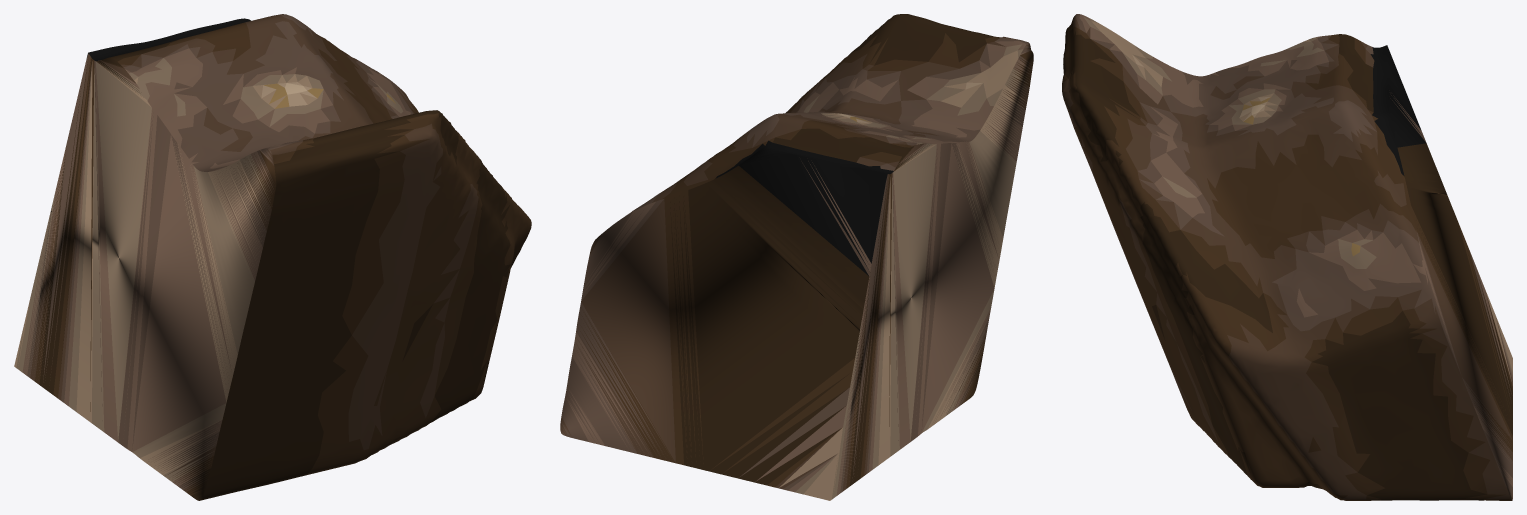
File: rock_column_br.glb
The picture shows the model from 3 angles, left to right: view 1: azimuth 30°, elevation 25°; view 2: azimuth 150°, elevation 25°; view 3: azimuth 270°, elevation 25°; orthographic projection. The views are drawn at different scales.
Parts seen in each view (by area): view 1: rock_column_br; view 2: rock_column_br; view 3: rock_column_br.
Boxes of the visible parts, bbox=[...] form: rock_column_br: bbox=[14, 14, 531, 500]; rock_column_br: bbox=[560, 14, 1033, 500]; rock_column_br: bbox=[1062, 14, 1512, 500].
Bounding box in the file's own units: 23.1 × 25.35 × 30.06.
